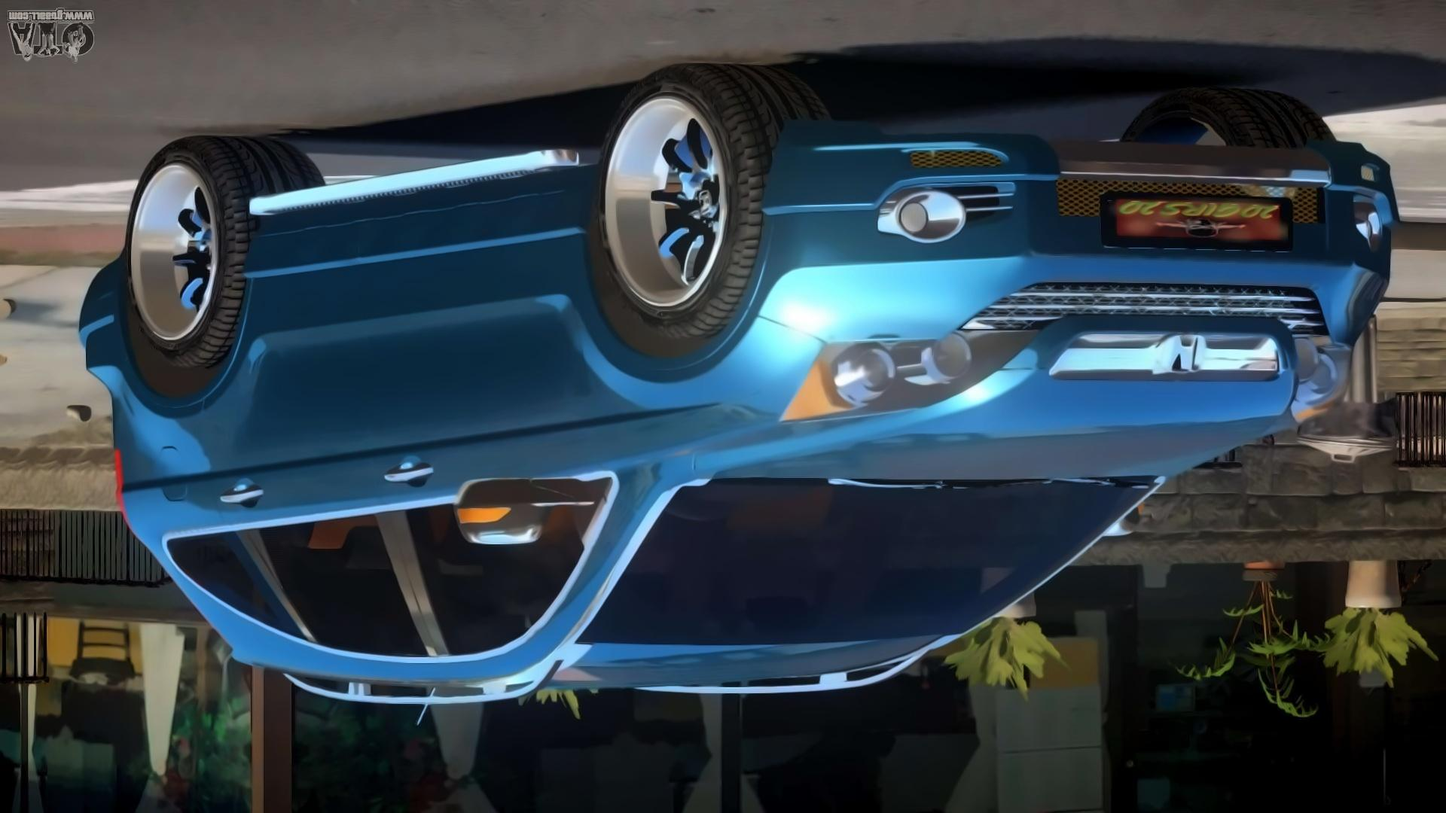Car hood: (706, 368, 1306, 492)
Fender - -F-L-: (569, 148, 820, 453)
Fender - -R-L-: (91, 237, 281, 538)
Front bumper: (747, 107, 1401, 354)
Headlight - -L-: (775, 325, 1032, 424)
Headlight - -R-: (1287, 329, 1354, 434)
Passenger-s door - -F-L-: (348, 131, 620, 707)
Passenger-s door - -R-L-: (191, 128, 451, 709)
Rear bumper: (79, 240, 129, 401)
Side bumper - -L-: (243, 128, 606, 269)
Side mirror - -L-: (458, 474, 620, 550)
